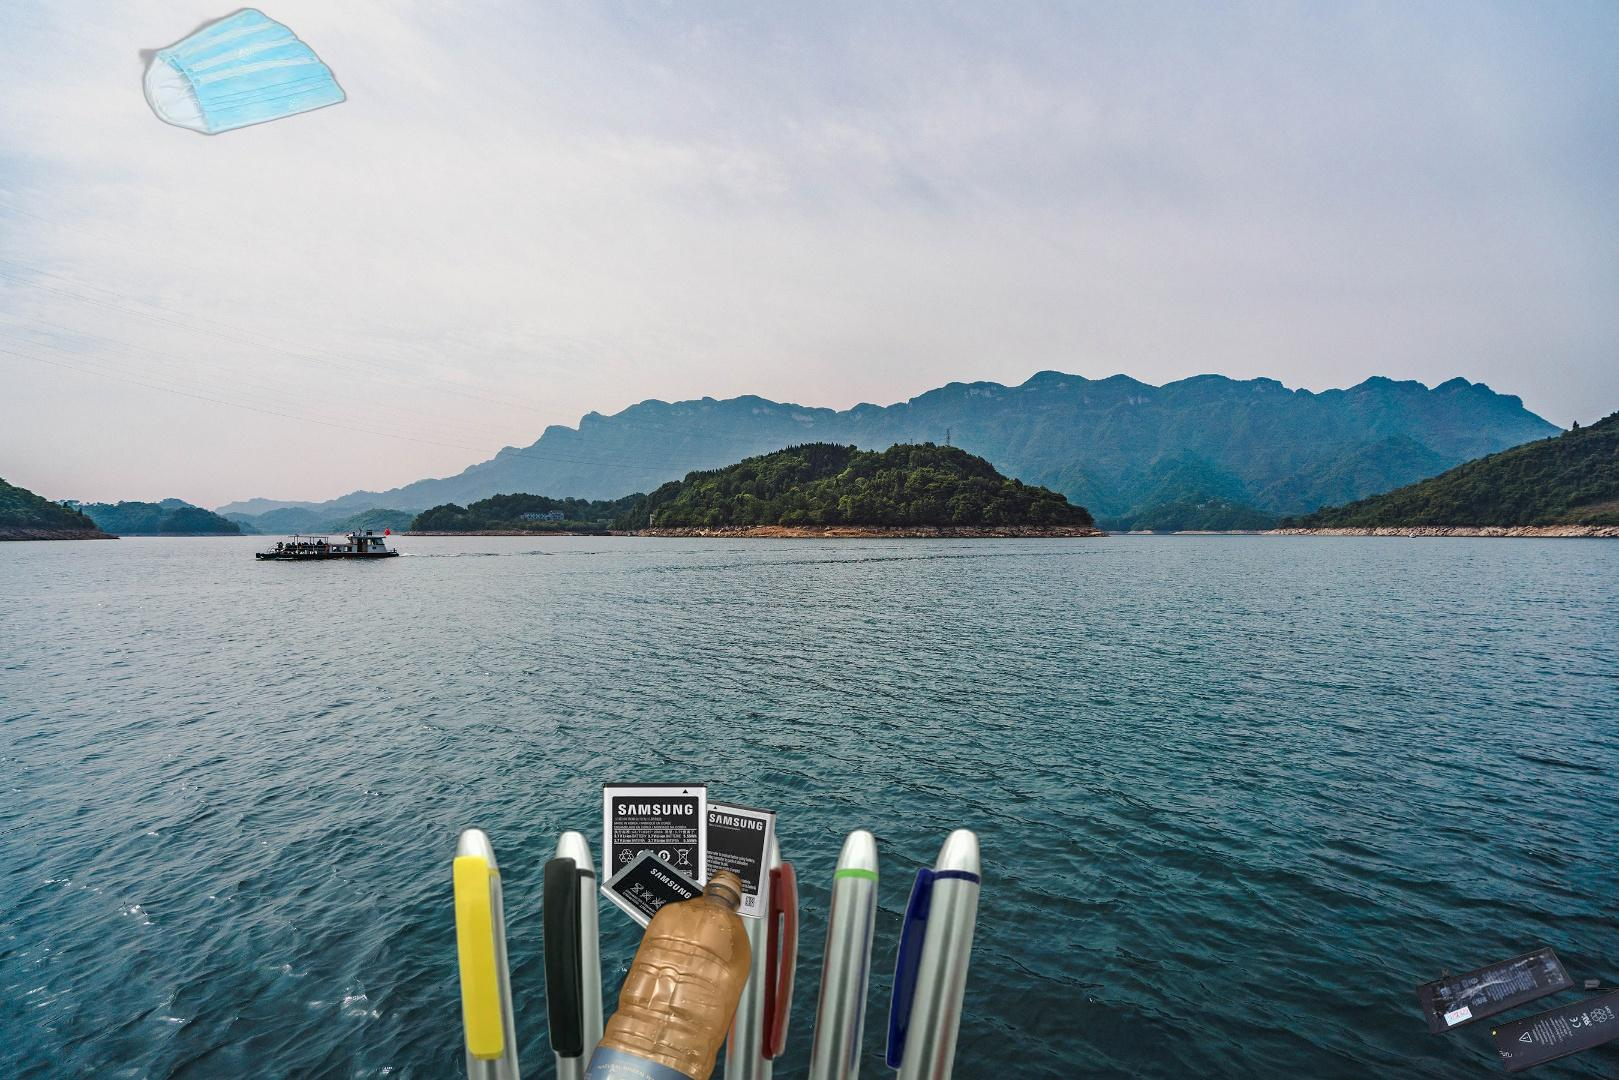battery: (596, 776, 779, 957), (1413, 944, 1619, 1078)
penholder: (374, 822, 1074, 1080)
plastic-bottles: (511, 864, 755, 1080)
trash: (133, 5, 366, 137)
